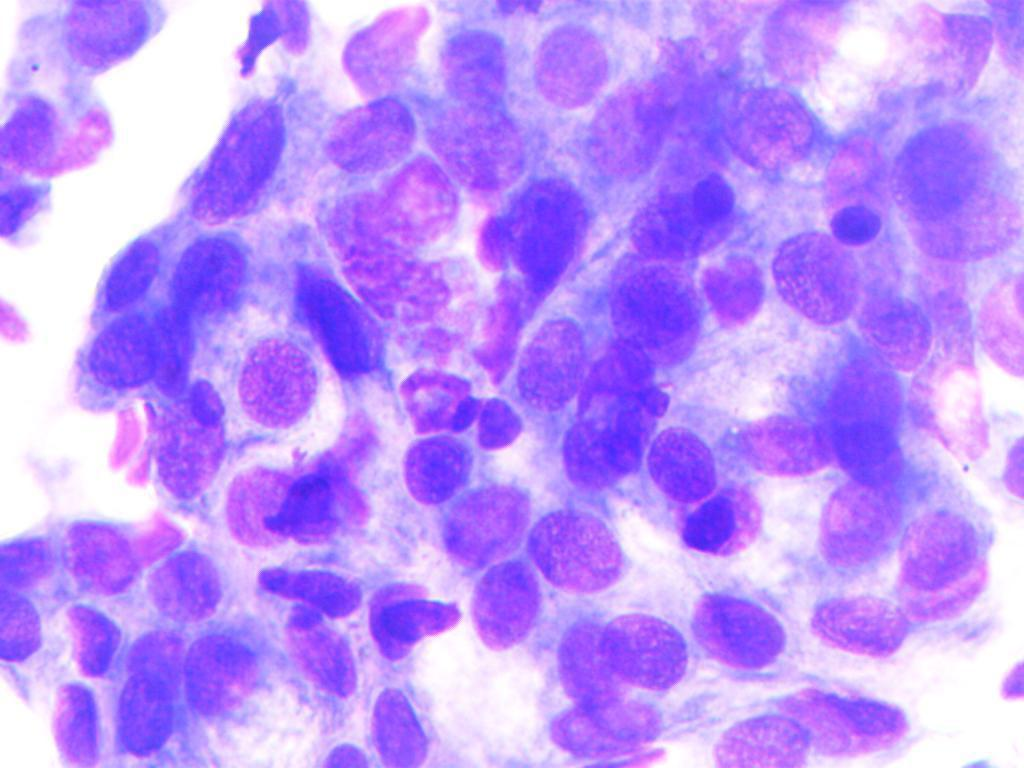epithelial: (304, 161, 463, 326), (890, 112, 1023, 264), (181, 84, 301, 234), (880, 499, 994, 622), (578, 69, 691, 188), (537, 680, 689, 766), (743, 6, 887, 91), (706, 80, 818, 189), (777, 687, 928, 767), (52, 0, 172, 100), (0, 84, 118, 182), (611, 252, 707, 361), (688, 574, 789, 676), (428, 470, 529, 571), (528, 503, 632, 601), (338, 11, 447, 102), (152, 380, 229, 507), (424, 4, 518, 108), (422, 101, 526, 194), (851, 287, 957, 377), (182, 622, 281, 717), (770, 225, 862, 327), (510, 18, 611, 105), (501, 304, 584, 409), (361, 580, 466, 663), (228, 334, 317, 430), (810, 480, 896, 572), (806, 587, 908, 663), (284, 599, 358, 702), (470, 554, 543, 658), (56, 519, 142, 607), (323, 97, 423, 171), (732, 409, 831, 482), (364, 673, 440, 768), (700, 248, 776, 341), (708, 701, 812, 768), (393, 350, 472, 437), (636, 422, 722, 500), (602, 612, 689, 689), (220, 469, 298, 554), (548, 610, 619, 694), (56, 596, 126, 681), (144, 555, 222, 626), (48, 680, 107, 768), (0, 576, 50, 677)
metaplastic: (470, 174, 611, 298), (572, 337, 664, 496), (633, 164, 747, 267), (819, 347, 908, 478), (302, 271, 389, 389), (252, 552, 363, 620), (101, 236, 174, 338), (269, 462, 353, 544), (169, 234, 253, 313), (674, 492, 764, 558), (394, 431, 474, 505), (120, 670, 182, 764), (86, 309, 157, 388), (817, 196, 901, 246), (473, 387, 534, 451)
